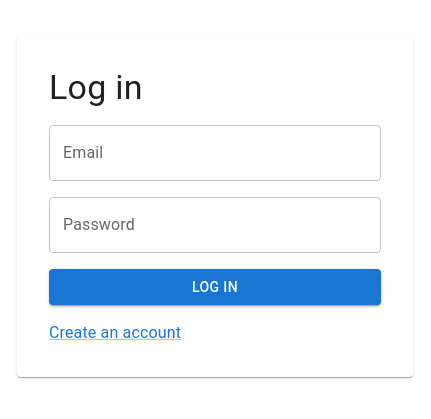
Test: LoginPage › shows validation errors and sends no request on an empty submit
The image size is (431, 419).
Click the button "Log in": (215, 287) left=49, top=269, right=381, bottom=305
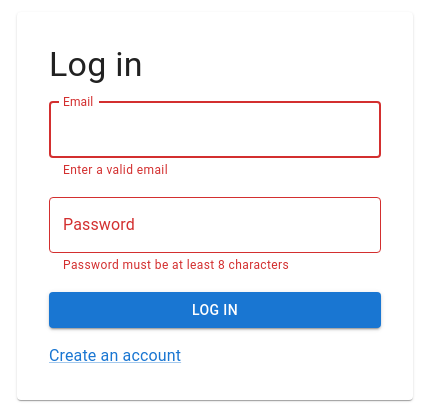
expect the text "Enter a valid email" is shown: met, box left=63, top=163, right=168, bottom=177
expect the text "Password must be at least 8 characters" is shown: met, box left=63, top=258, right=289, bottom=272
